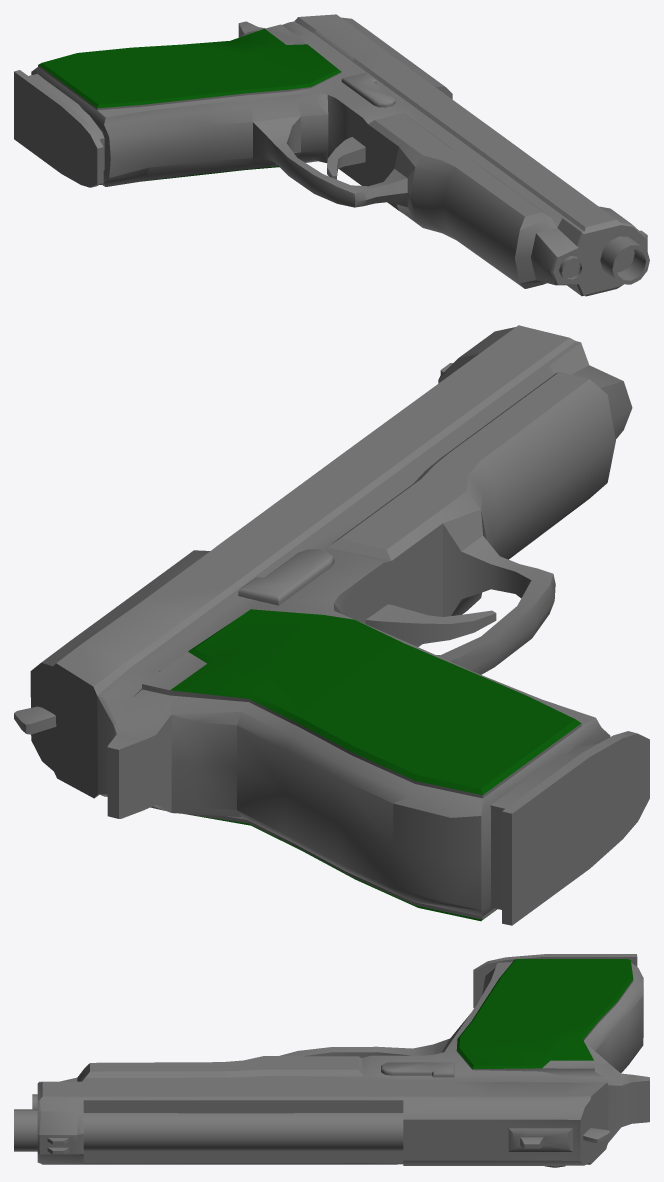
Rendered from Gun.fbx.
The picture shows the model from 3 angles, top to bottom: view 1: azimuth 30°, elevation 25°; view 2: azimuth 150°, elevation 25°; view 3: azimuth 270°, elevation 25°; orthographic projection. The views are drawn at different scales.
Visible parts, largest first — view 1: Mesh; view 2: Mesh; view 3: Mesh.
Boxes of the visible parts, <box> form: Mesh: <box>14,14,649,296</box>; Mesh: <box>14,325,649,925</box>; Mesh: <box>14,954,649,1167</box>.
Size of the model in its own units: 10.67 by 2.45 by 17.87.
